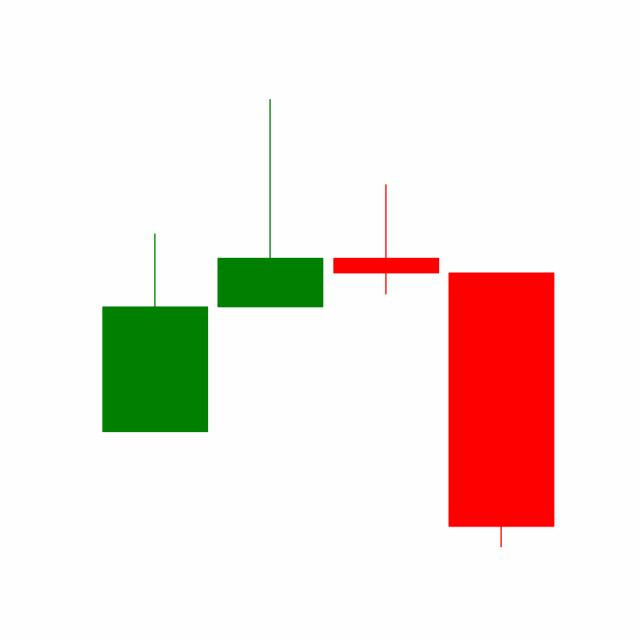Spinning Top: (328, 183, 444, 296)
